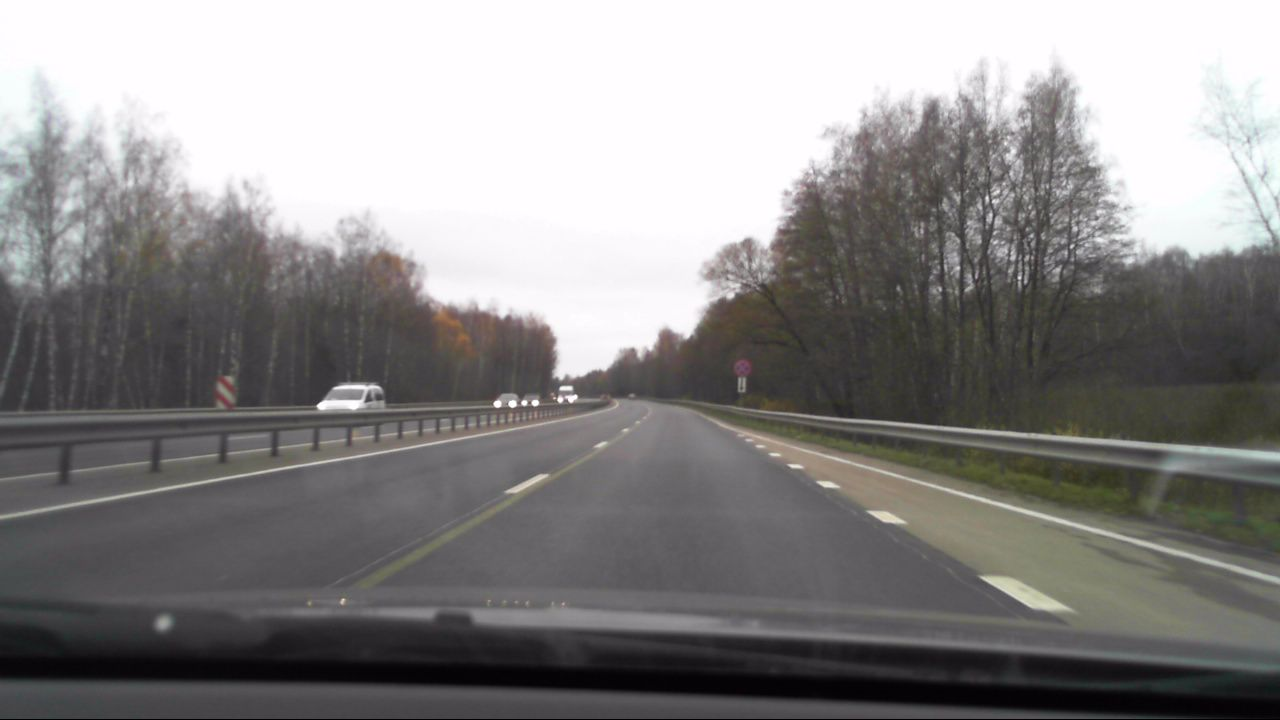No Parking: (731, 359, 751, 376)
